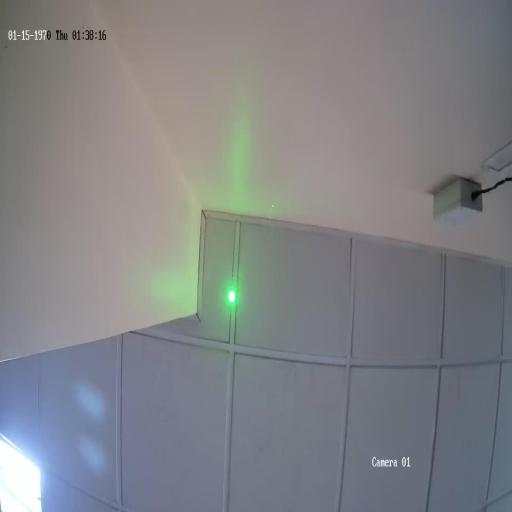laser: (226, 285, 238, 307)
